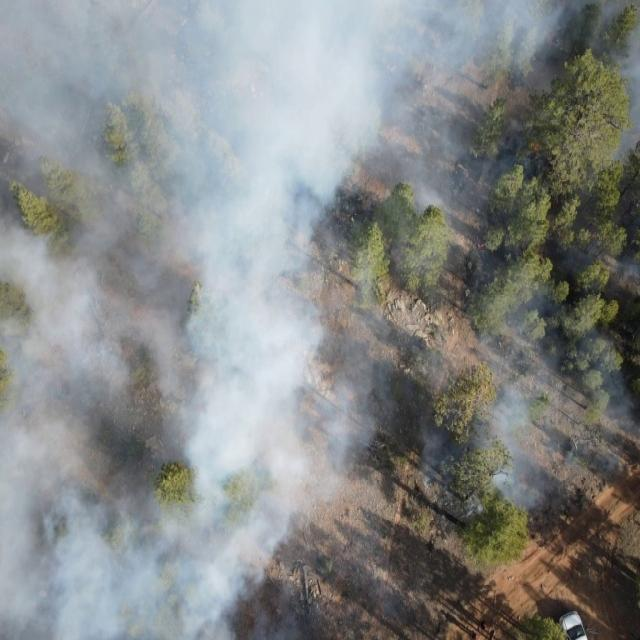fire: (529, 138, 542, 154), (475, 240, 488, 250)
smoke: (1, 0, 370, 640), (370, 0, 640, 514)
